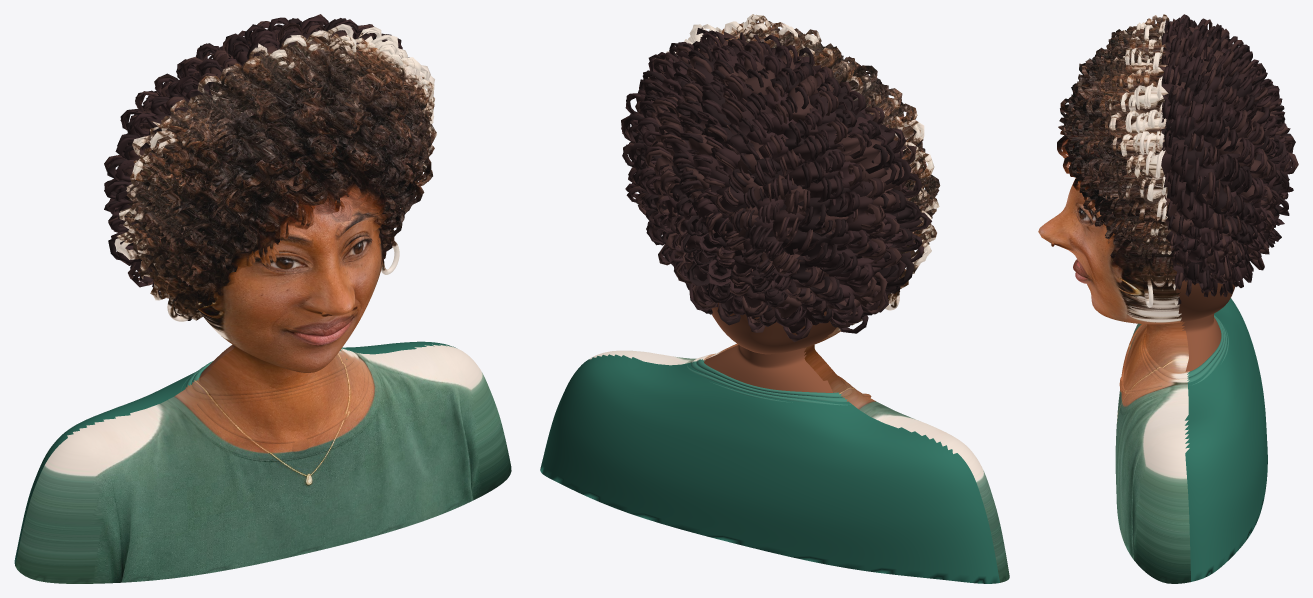
Rendered from lia-realista.glb.
3 views of the same model, side by side, from view 1: azimuth 30°, elevation 25°; view 2: azimuth 150°, elevation 25°; view 3: azimuth 270°, elevation 25° (orthographic). The views are drawn at different scales.
Visible parts, largest first — view 1: Lia; view 2: Lia; view 3: Lia.
Boxes of the visible parts, <box> form: Lia: <box>14,14,511,583</box>; Lia: <box>540,14,1009,583</box>; Lia: <box>1038,14,1298,583</box>.
Bounding box in the file's own units: 2.61 × 2.6 × 1.33.
Materials: 9 (1 with a texture image).
